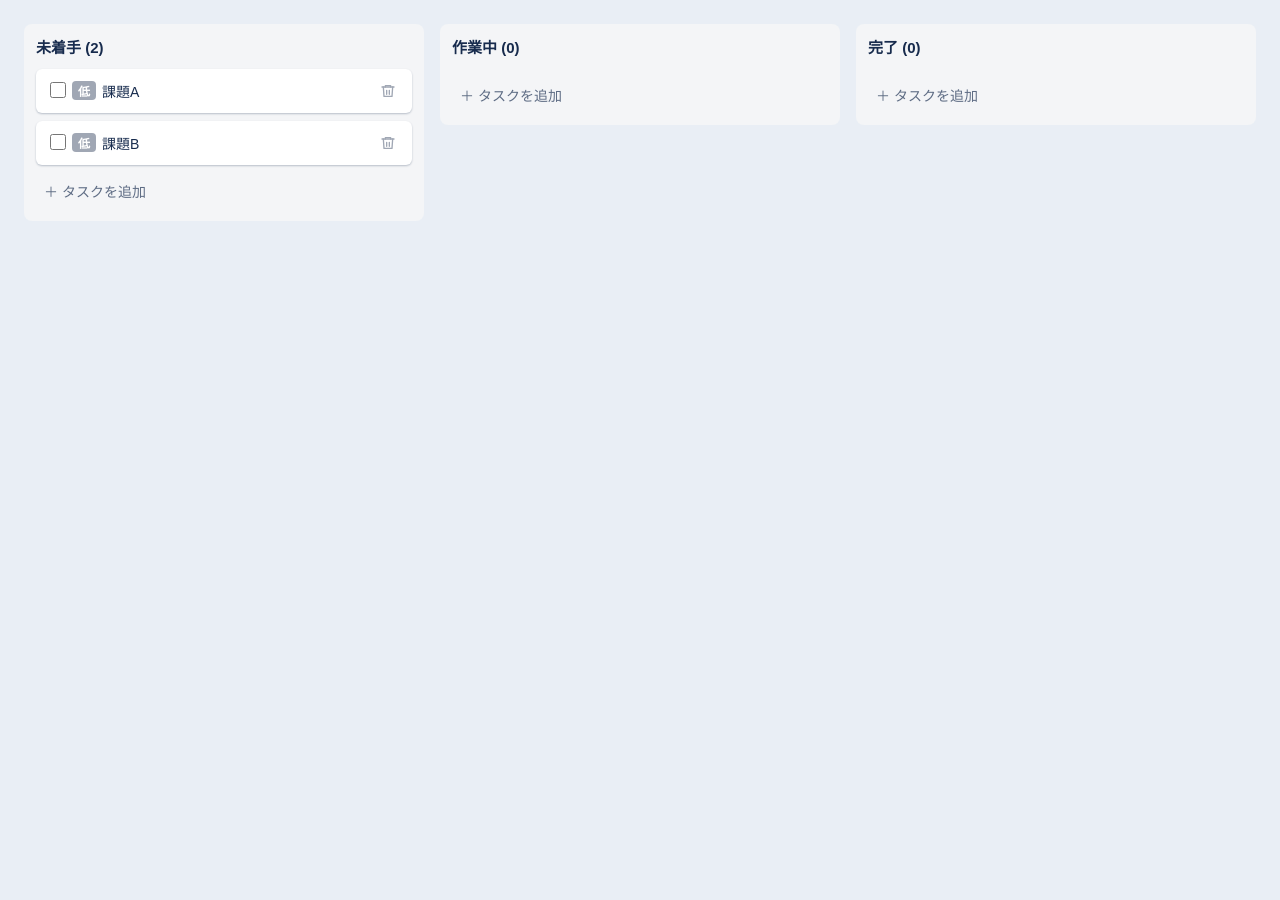
Test: ボードのゴミ箱マーク › 押すと確認ダイアログが出て、編集ウィンドウは開かない
Click the button named "課題A を削除".
click(388, 91)  # box [378, 81, 398, 101]
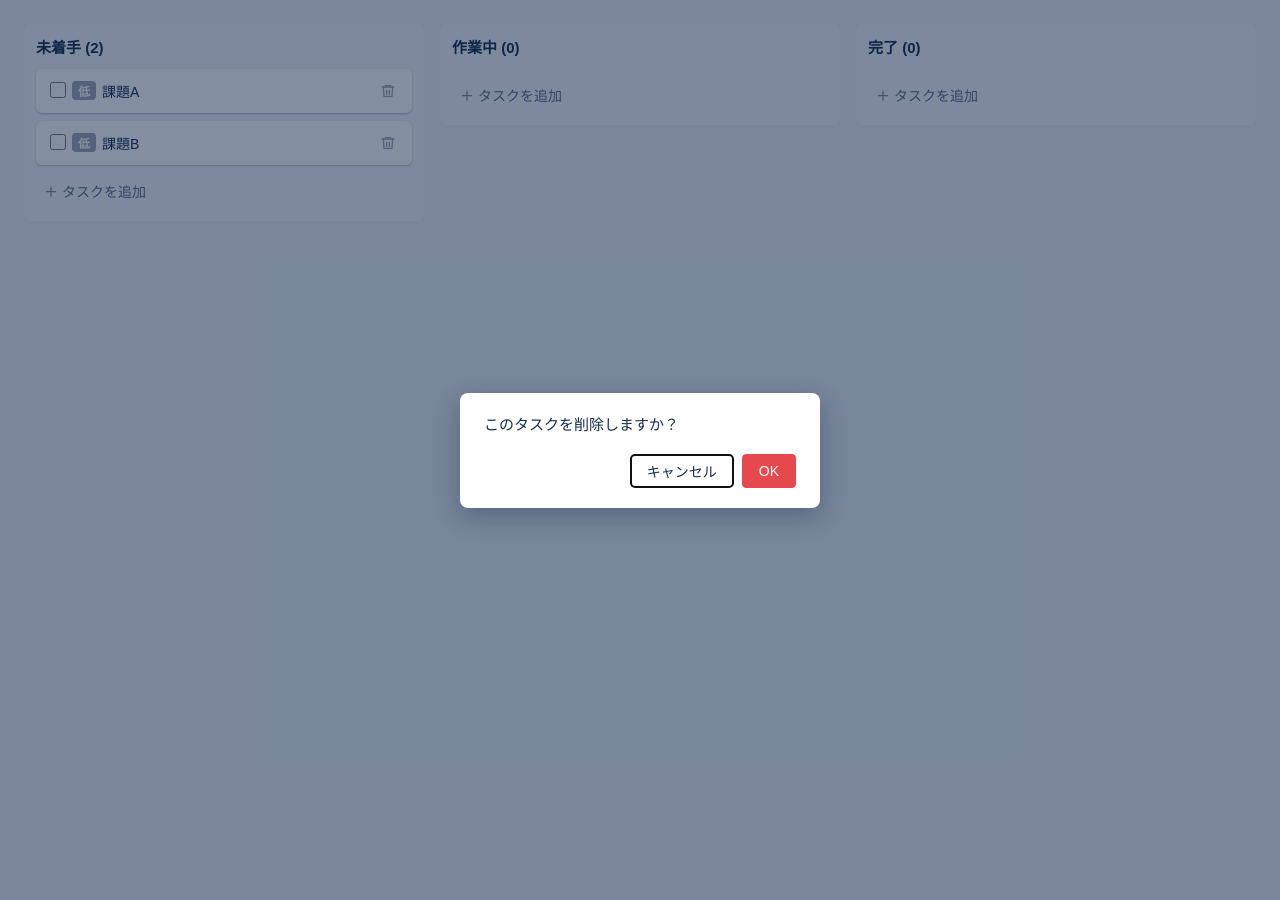
Expected: the dialog "このタスクを削除しますか？" is shown, [460, 392, 820, 508]
